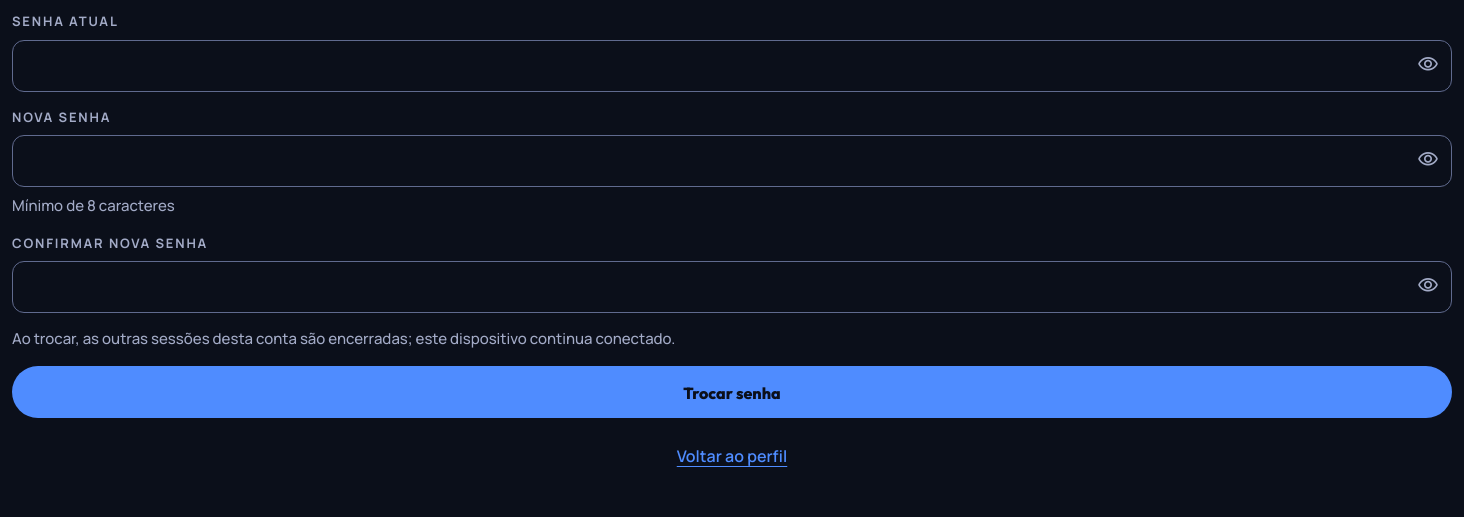
TrocarSenhaForm (CA-56) › nova senha curta e senha atual vazia são avisadas antes de enviar
This screenshot has width=1464, height=517.
Type "1234567" into the password field labelled "Nova senha" at x=732, y=161, box 12,135 -> 1452,187
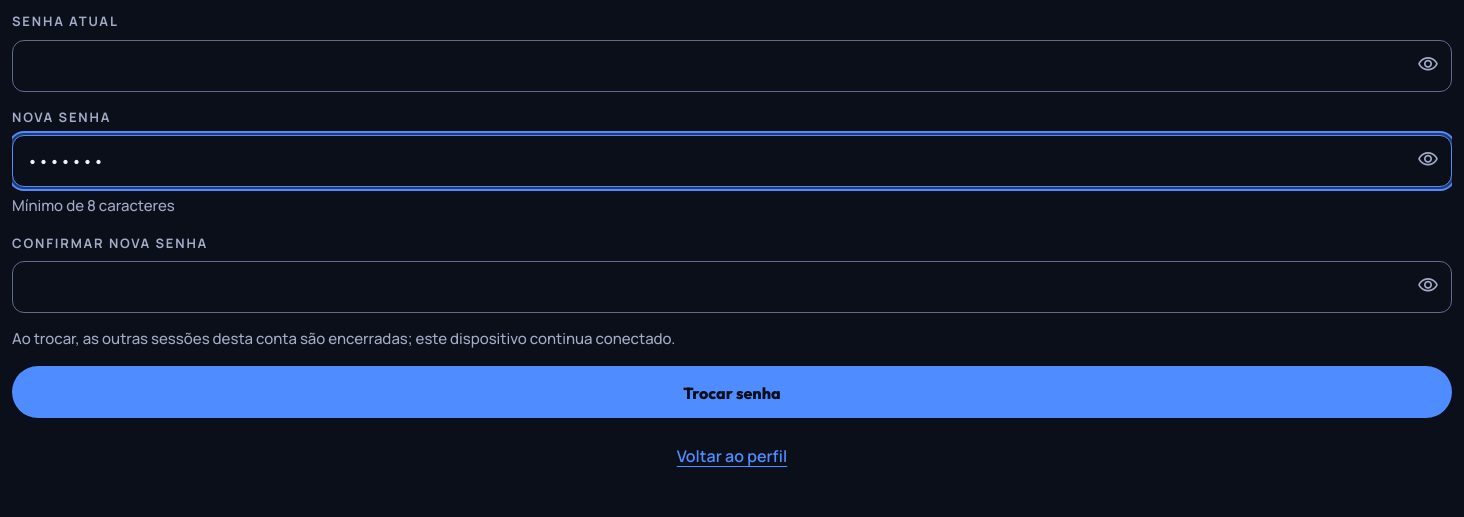
Type "1234567" into the password field labelled "Confirmar nova senha" at x=732, y=287, box 12,261 -> 1452,313
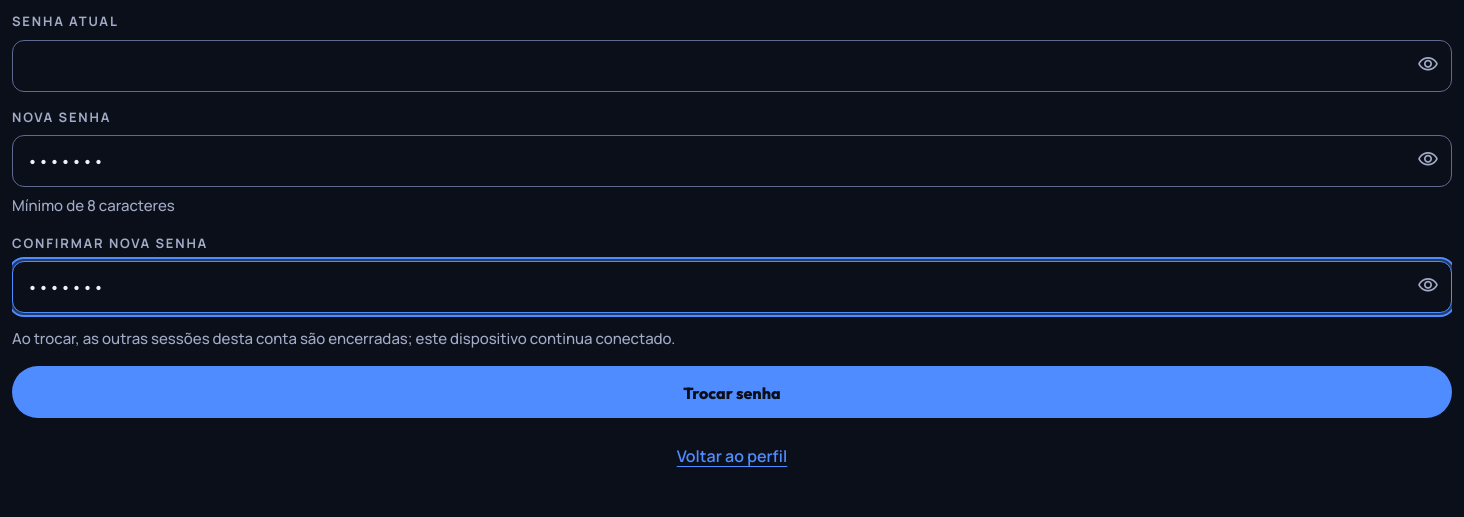
Click the button "Trocar senha" at x=732, y=392, box 12,366 -> 1452,418
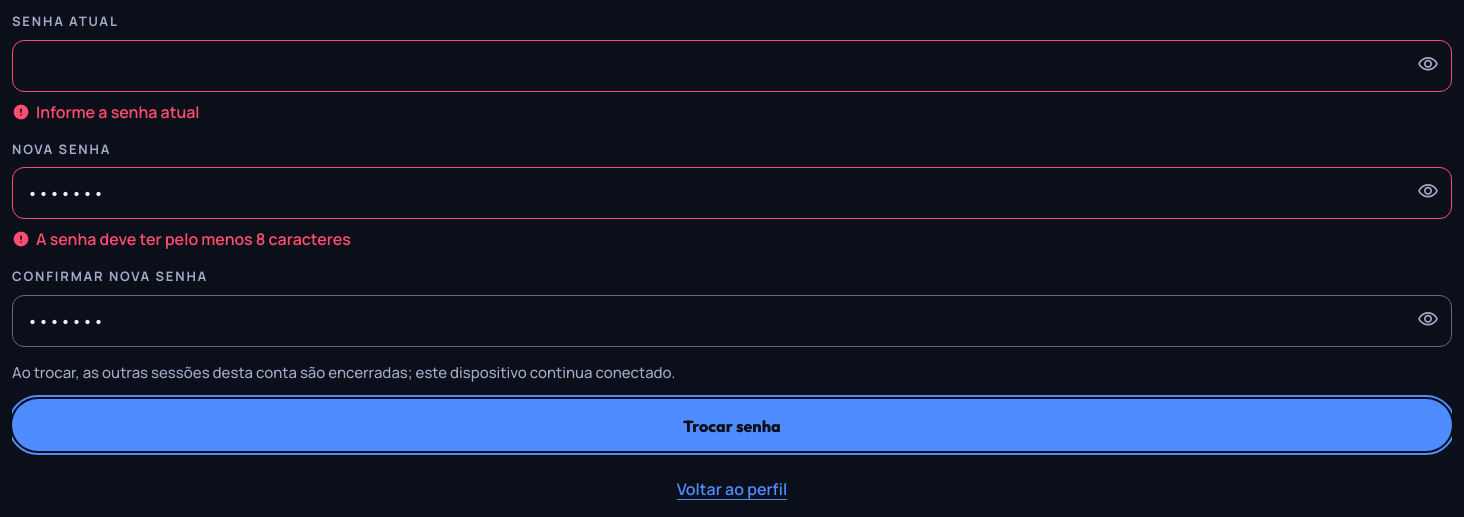
expect the text "Informe a senha atual" is shown: met, box 12,100 -> 200,122
expect the text "A senha deve ter pelo menos 8 caracteres" is shown: met, box 12,228 -> 351,250
